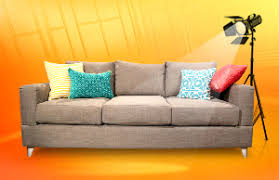chair: (20, 62, 253, 158)
